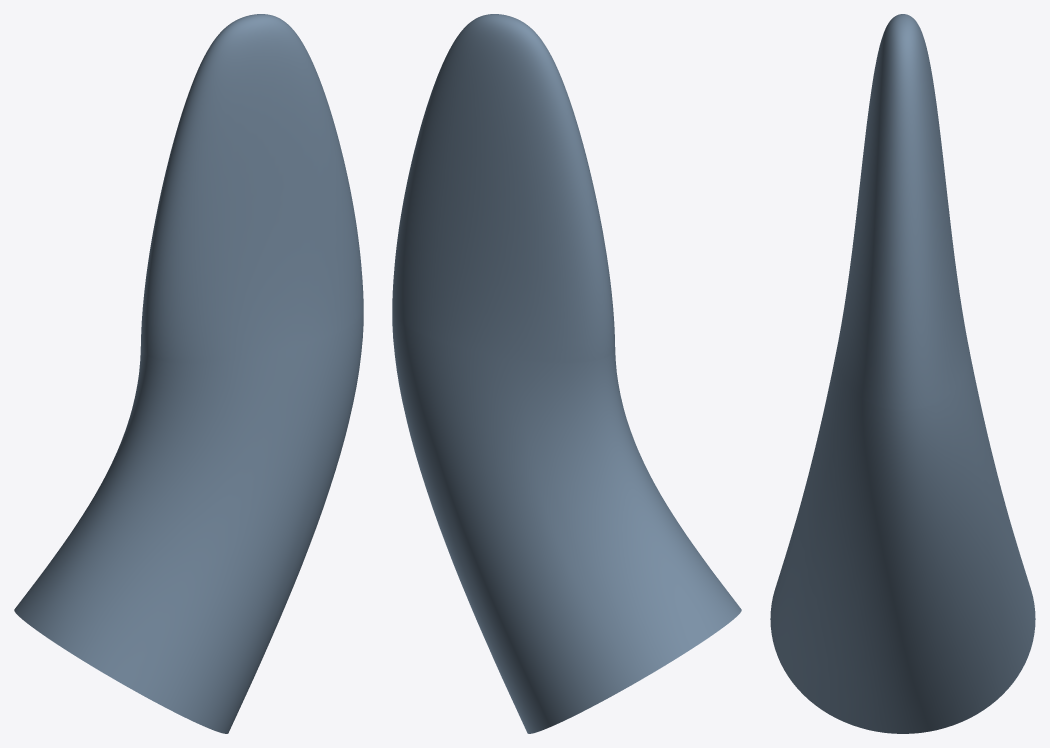
The model's file is solids_loft.glb.
3 views of the same model, side by side, from view 1: azimuth 30°, elevation 25°; view 2: azimuth 150°, elevation 25°; view 3: azimuth 270°, elevation 25° (orthographic). The views are drawn at different scales.
Visible parts, largest first — view 1: drift; view 2: drift; view 3: drift.
Boxes of the visible parts, box(x1,y1,x2,y2) form: drift: box(14, 14, 363, 733); drift: box(392, 14, 741, 733); drift: box(770, 14, 1035, 733).
Bounding box in the file's own units: 0.0547 × 0.1104 × 0.036.
